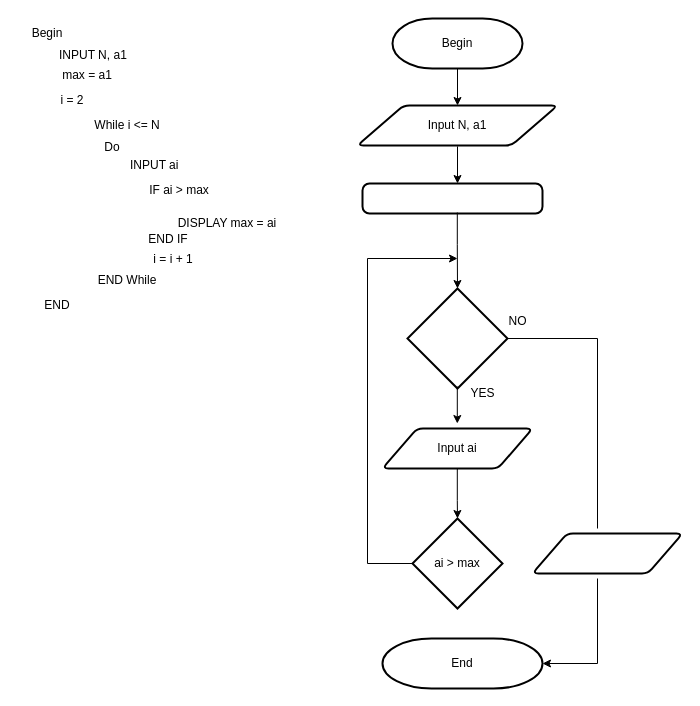
The diagram is 700 pixels wide and 706 high, and some of its shapes have lost their labels. Each missing label, with the centre of its shape:
"DISPLAY max" goes at [607,553].
"i <= N" goes at [457,338].
"max = a1, i = 2" goes at [452,198].
